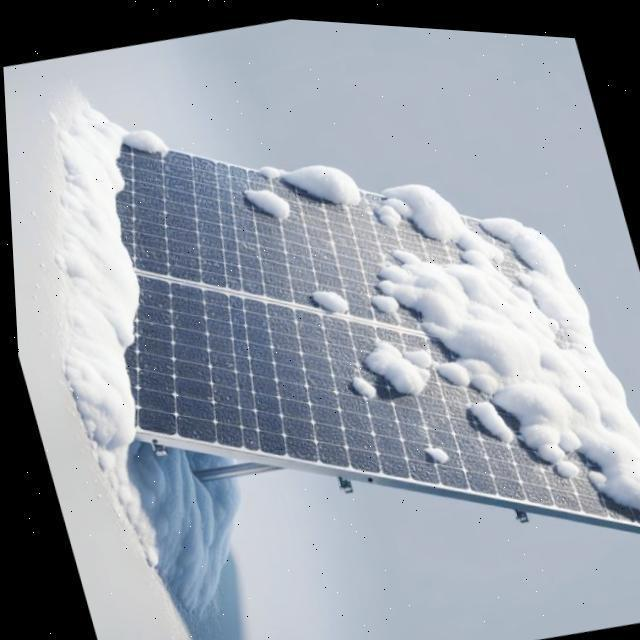Anomaly Solar Panel: (75, 126, 640, 519)
Snow: (314, 127, 640, 534), (50, 98, 170, 427), (253, 140, 365, 203), (358, 316, 438, 394), (464, 384, 515, 439), (239, 170, 294, 219), (307, 273, 350, 312), (343, 364, 375, 394), (420, 431, 448, 459)
